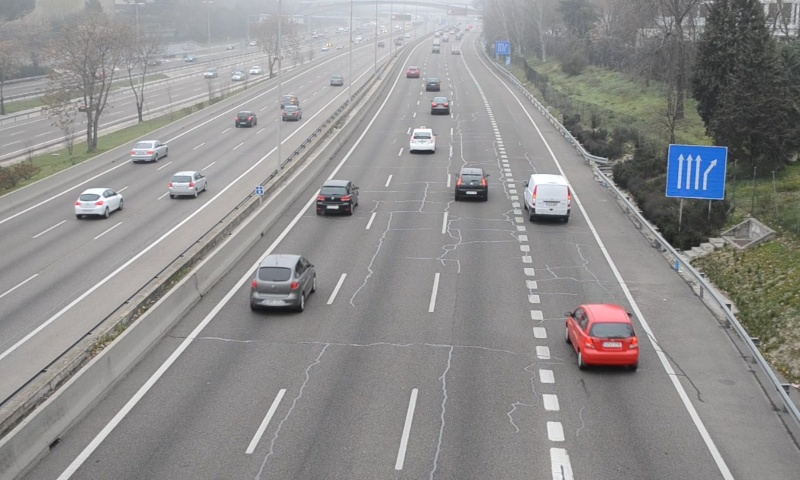car: (567, 304, 640, 367), (252, 255, 315, 311), (315, 180, 359, 215), (455, 167, 488, 199), (408, 127, 435, 152), (430, 96, 451, 116)
van: (526, 174, 571, 221)
